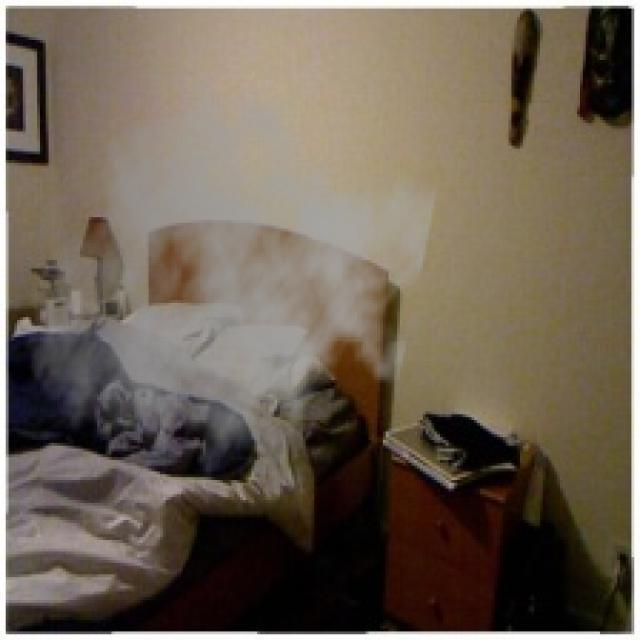Smoke: (23, 72, 440, 497)
